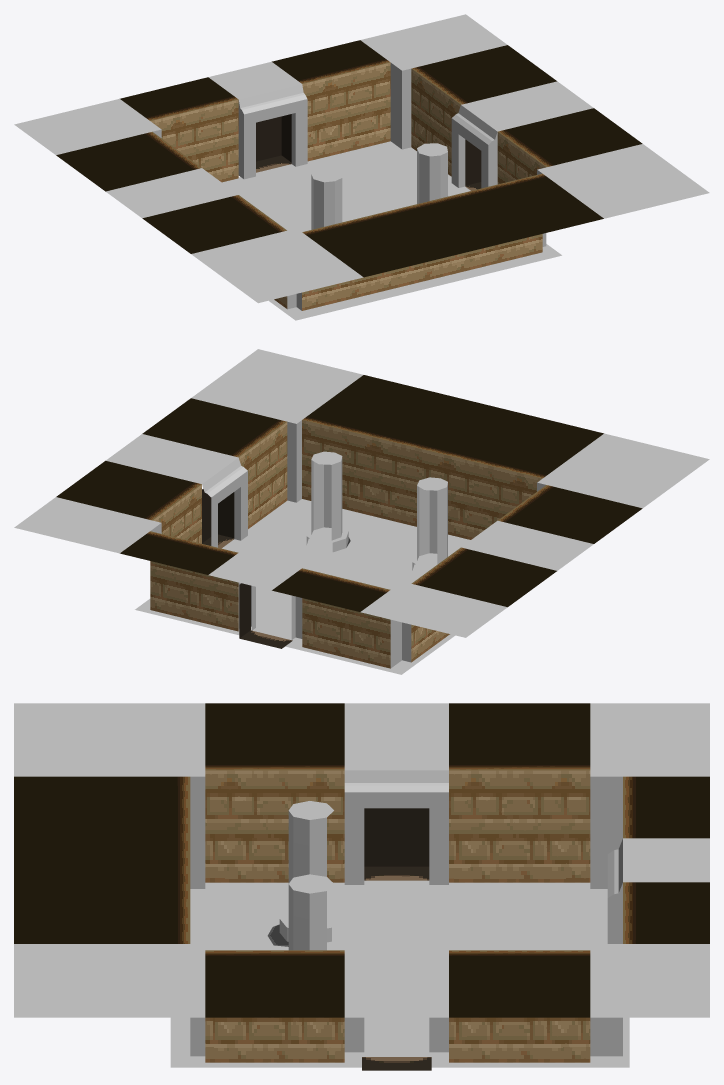
The model's file is ROOM6-RELIC.obj.
3 renders of one model, top to bottom at view 1: azimuth 30°, elevation 25°; view 2: azimuth 150°, elevation 25°; view 3: azimuth 270°, elevation 25°, orthographic. The views are drawn at different scales.
Parts seen in each view (by area): view 1: in10_kabe05_lay0_QUADS_VisGroup0, in10_tile05_lay0_QUADS_VisGroup0, in10_kabe04_lay0_QUADS_VisGroup0, in10_tile04_lay0_QUADS_VisGroup0, in10_tile03_lay0_QUADS_VisGroup0, in10_has01_lay0_QUADS_VisGroup0, in10_tile06_lay0_QUADS_VisGroup0, in45_gate01_lay0_QUADS_VisGroup0, in10_tile05_lay0_TRIS_VisGroup0, in10_has01_lay0_TRIS_VisGroup0; view 2: in10_kabe05_lay0_QUADS_VisGroup0, in10_kabe04_lay0_QUADS_VisGroup0, in10_tile05_lay0_QUADS_VisGroup0, in10_tile04_lay0_QUADS_VisGroup0, in10_has01_lay0_QUADS_VisGroup0, in10_tile03_lay0_QUADS_VisGroup0, in45_gate01_lay0_QUADS_VisGroup0, in10_tile06_lay0_QUADS_VisGroup0, in10_has01_lay0_TRIS_VisGroup0, in10_tile05_lay0_TRIS_VisGroup0; view 3: in10_kabe05_lay0_QUADS_VisGroup0, in10_tile05_lay0_QUADS_VisGroup0, in10_tile04_lay0_QUADS_VisGroup0, in10_kabe04_lay0_QUADS_VisGroup0, in10_tile03_lay0_QUADS_VisGroup0, in45_gate01_lay0_QUADS_VisGroup0, in10_tile06_lay0_QUADS_VisGroup0, in10_has01_lay0_QUADS_VisGroup0, in10_has01_lay0_TRIS_VisGroup0, in10_kabe04_lay0_TRIS_VisGroup0, in10_tile05_lay0_TRIS_VisGroup0.
Boxes of the visible parts, x1,y1,x2,y2 form: in10_kabe05_lay0_QUADS_VisGroup0: [56, 40, 642, 277]; in10_tile05_lay0_QUADS_VisGroup0: [14, 14, 709, 303]; in10_kabe04_lay0_QUADS_VisGroup0: [150, 62, 545, 310]; in10_tile04_lay0_QUADS_VisGroup0: [106, 61, 593, 320]; in10_tile03_lay0_QUADS_VisGroup0: [153, 63, 546, 310]; in10_has01_lay0_QUADS_VisGroup0: [311, 149, 447, 229]; in10_tile06_lay0_QUADS_VisGroup0: [194, 80, 504, 196]; in45_gate01_lay0_QUADS_VisGroup0: [256, 114, 481, 190]; in10_tile05_lay0_TRIS_VisGroup0: [129, 55, 563, 239]; in10_has01_lay0_TRIS_VisGroup0: [311, 143, 447, 182]; in10_kabe05_lay0_QUADS_VisGroup0: [56, 375, 642, 611]; in10_kabe04_lay0_QUADS_VisGroup0: [150, 420, 541, 668]; in10_tile05_lay0_QUADS_VisGroup0: [14, 349, 709, 638]; in10_tile04_lay0_QUADS_VisGroup0: [106, 434, 593, 674]; in10_has01_lay0_QUADS_VisGroup0: [306, 457, 447, 570]; in10_tile03_lay0_QUADS_VisGroup0: [150, 420, 545, 668]; in45_gate01_lay0_QUADS_VisGroup0: [202, 489, 292, 648]; in10_tile06_lay0_QUADS_VisGroup0: [194, 455, 505, 571]; in10_has01_lay0_TRIS_VisGroup0: [306, 451, 449, 567]; in10_tile05_lay0_TRIS_VisGroup0: [129, 412, 563, 597]; in10_kabe05_lay0_QUADS_VisGroup0: [14, 703, 709, 1017]; in10_tile05_lay0_QUADS_VisGroup0: [14, 703, 709, 1052]; in10_tile04_lay0_QUADS_VisGroup0: [170, 703, 709, 1067]; in10_kabe04_lay0_QUADS_VisGroup0: [205, 770, 590, 1062]; in10_tile03_lay0_QUADS_VisGroup0: [190, 776, 622, 1056]; in45_gate01_lay0_QUADS_VisGroup0: [362, 808, 431, 1070]; in10_tile06_lay0_QUADS_VisGroup0: [344, 764, 635, 955]; in10_has01_lay0_QUADS_VisGroup0: [279, 811, 331, 950]; in10_has01_lay0_TRIS_VisGroup0: [279, 801, 340, 928]; in10_kabe04_lay0_TRIS_VisGroup0: [211, 878, 584, 1062]; in10_tile05_lay0_TRIS_VisGroup0: [177, 764, 635, 955].
Bounding box in the file's own units: 342 × 64.67 × 320.
